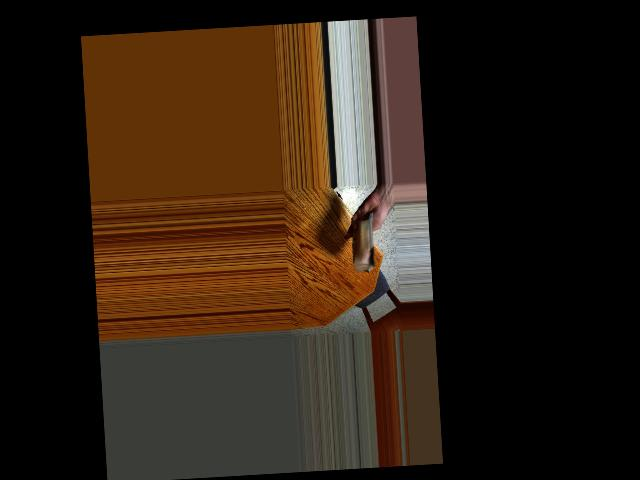cheese: (348, 215, 386, 268)
